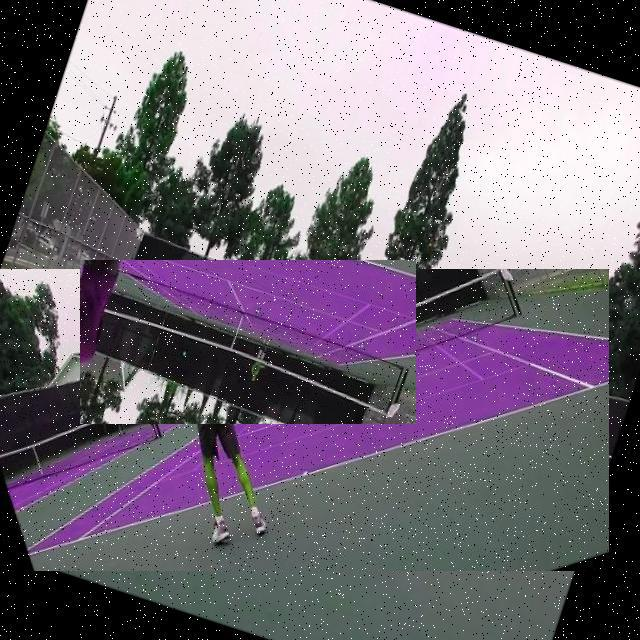court: (0, 269, 609, 571)
net: (80, 260, 417, 424)
player: (334, 278, 476, 552)
